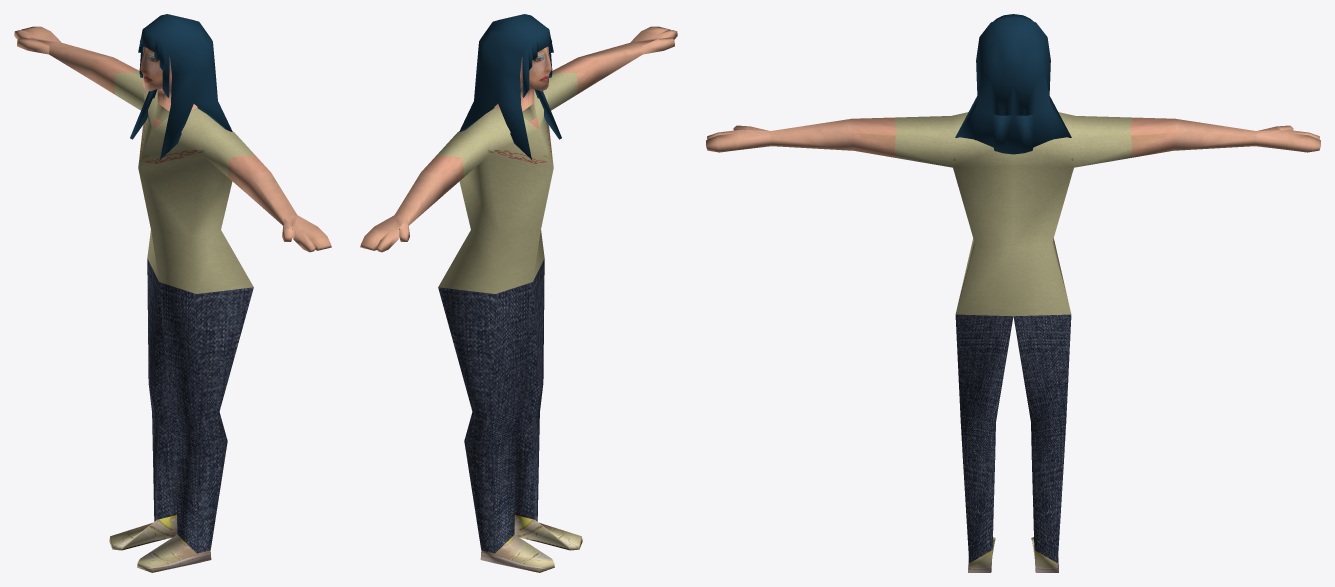
The model's file is aleyna.fbx.
3 views of the same model, side by side, from view 1: azimuth 30°, elevation 25°; view 2: azimuth 150°, elevation 25°; view 3: azimuth 270°, elevation 25° (orthographic). The views are drawn at different scales.
Visible parts, largest first — view 1: Cube.006, Cube.003; view 2: Cube.006, Cube.003; view 3: Cube.006, Cube.003.
Boxes of the visible parts, bbox=[...] form: Cube.006: bbox=[14, 26, 331, 572]; Cube.003: bbox=[130, 14, 232, 159]; Cube.006: bbox=[360, 26, 677, 572]; Cube.003: bbox=[459, 14, 561, 159]; Cube.006: bbox=[706, 112, 1320, 572]; Cube.003: bbox=[955, 14, 1071, 154].
Bounding box in the file's own units: 70.49 × 346 × 352.
